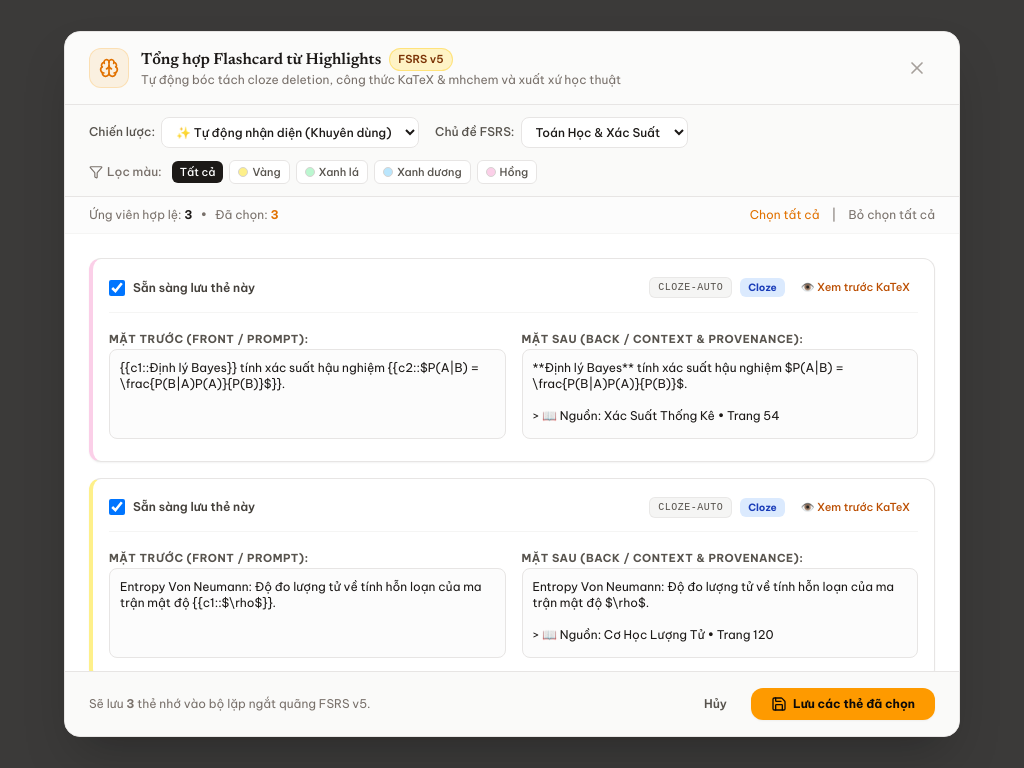
it: Highlight-to-Flashcard UI Integration (Phase 7B - ADR-111) › Scenario 2: filters candidates by highlight color chips
Expected: the text box with test id "candidate-front-input-exc-1" is shown, top-left (109, 349), bottom-right (506, 439)
Expected: the text box with test id "candidate-front-input-exc-2" is shown, top-left (109, 568), bottom-right (506, 658)
Note: Click Pink filter (#fbcfe8)
Click the button with test id "synthesis-color-filter-pink": (507, 172) top-left (477, 160), bottom-right (537, 184)
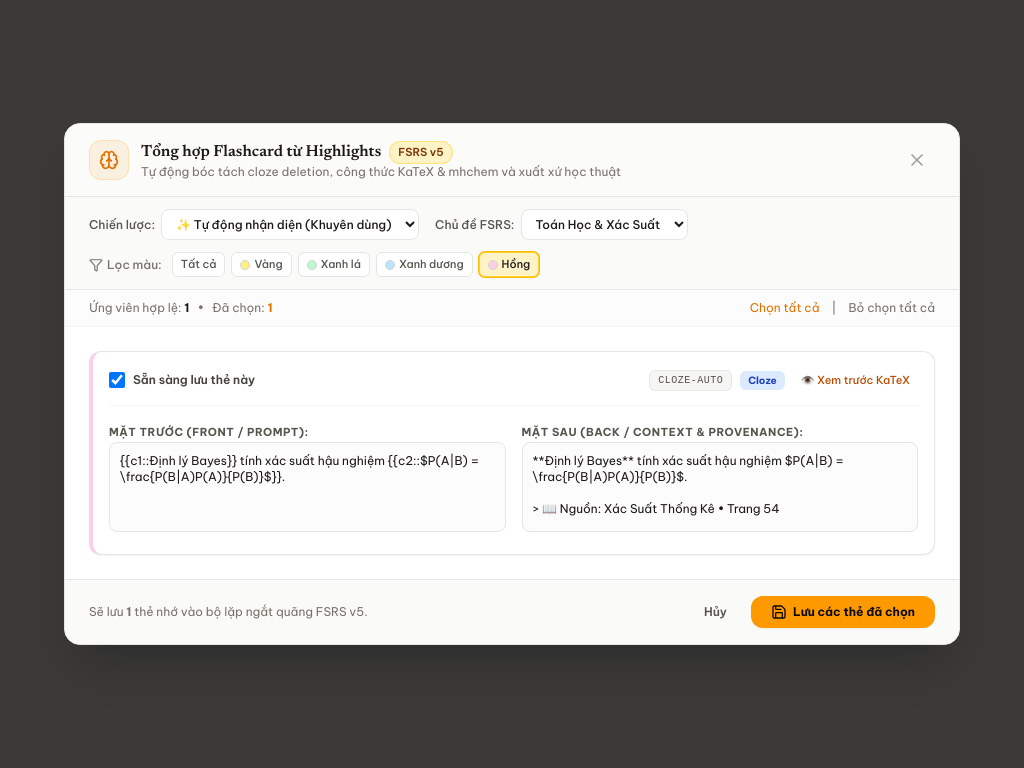
Expected: the text box with test id "candidate-front-input-exc-1" is shown, top-left (109, 442), bottom-right (506, 532)
Now the text box with test id "candidate-front-input-exc-2" is gone
Note: Click All filter to reset
Click the button with test id "synthesis-color-filter-all": (199, 265) top-left (172, 252), bottom-right (226, 277)
(page scrolled)
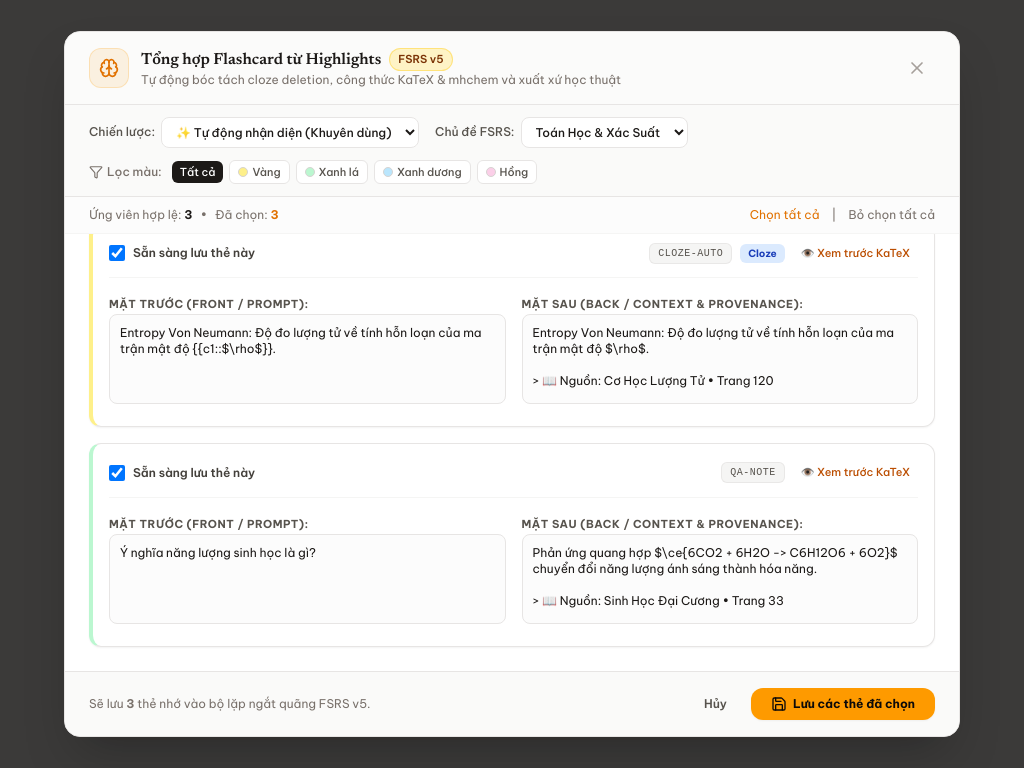
Now the text box with test id "candidate-front-input-exc-2" is shown, box top-left (109, 314), bottom-right (506, 404)
Now the text box with test id "candidate-front-input-exc-3" is shown, box top-left (109, 534), bottom-right (506, 624)
